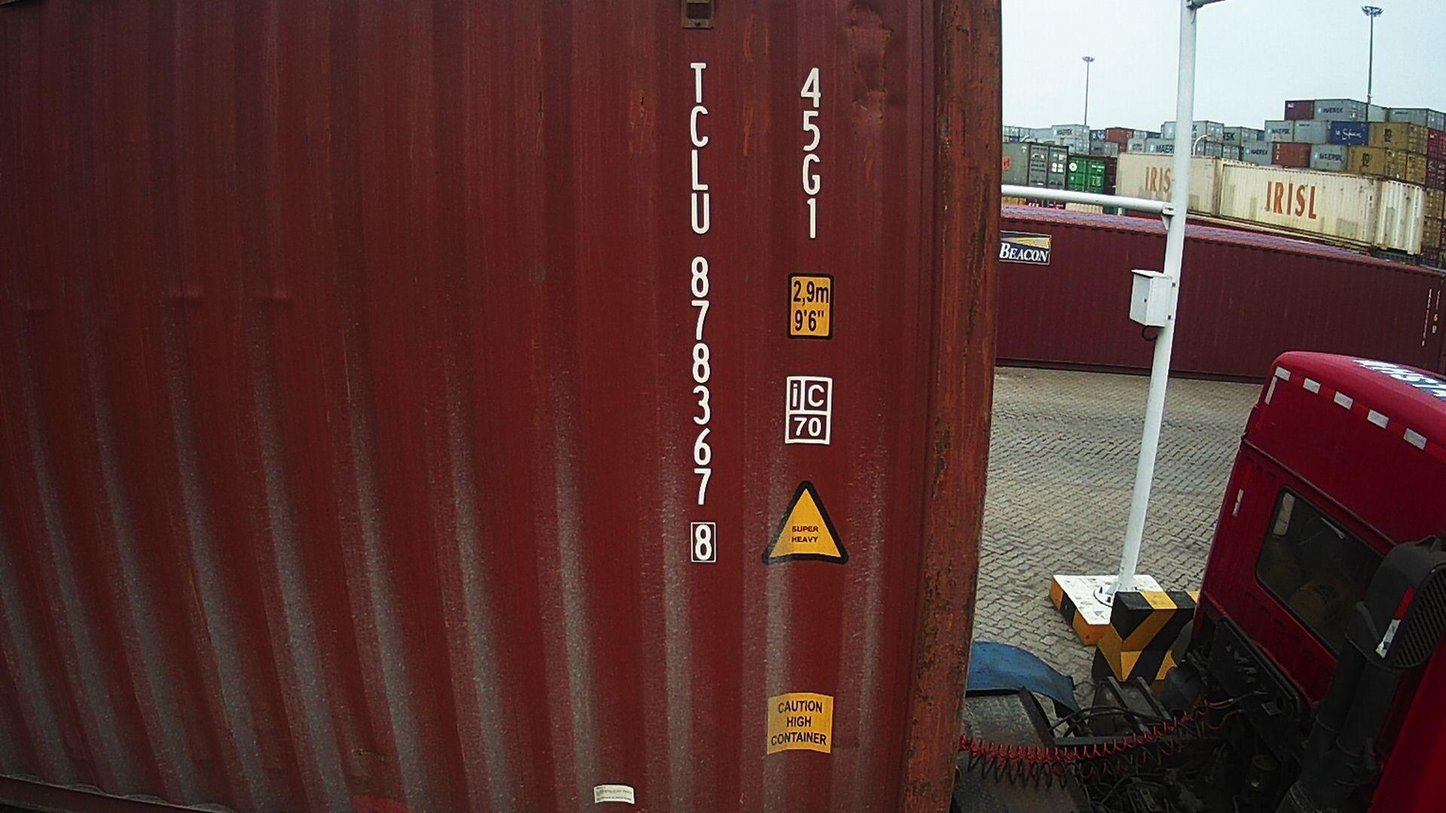container-numbers: (676, 53, 719, 574), (794, 60, 830, 244)
